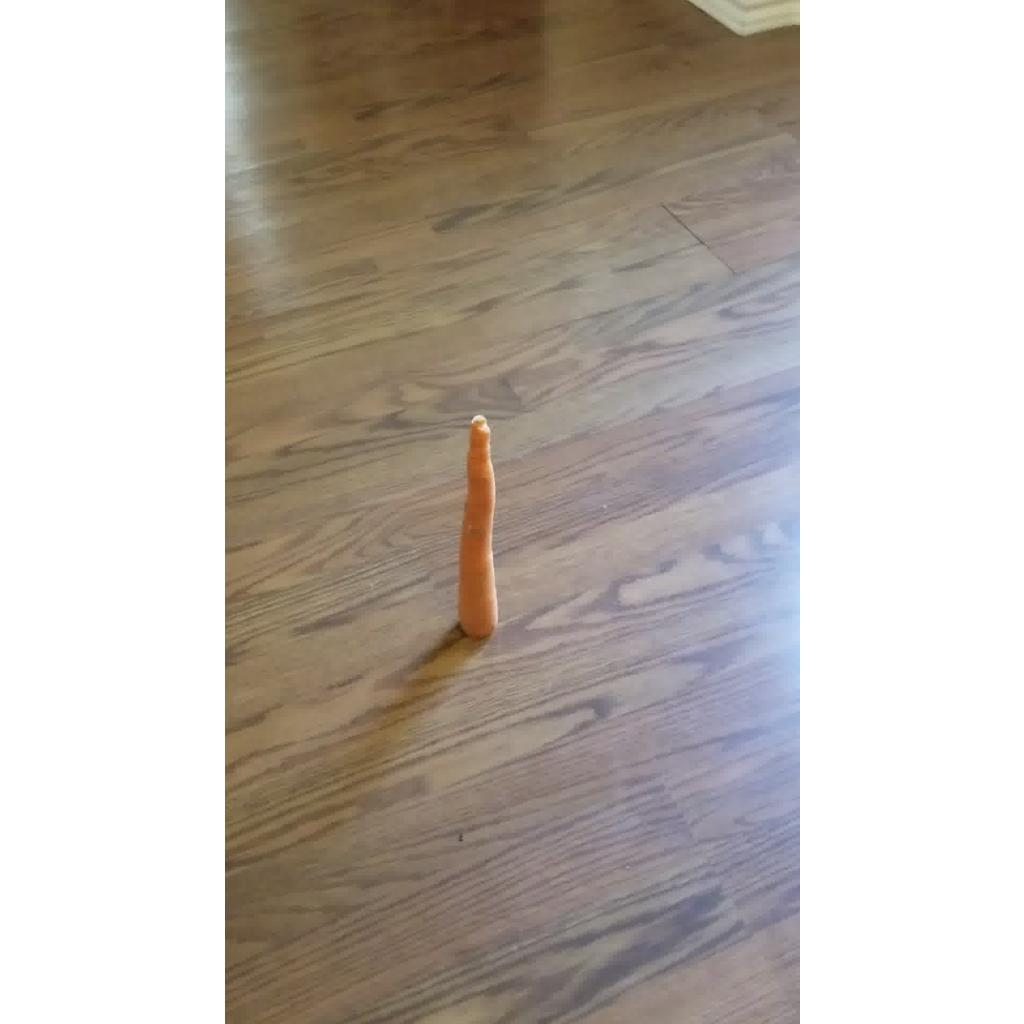carrot: (458, 416, 498, 638)
